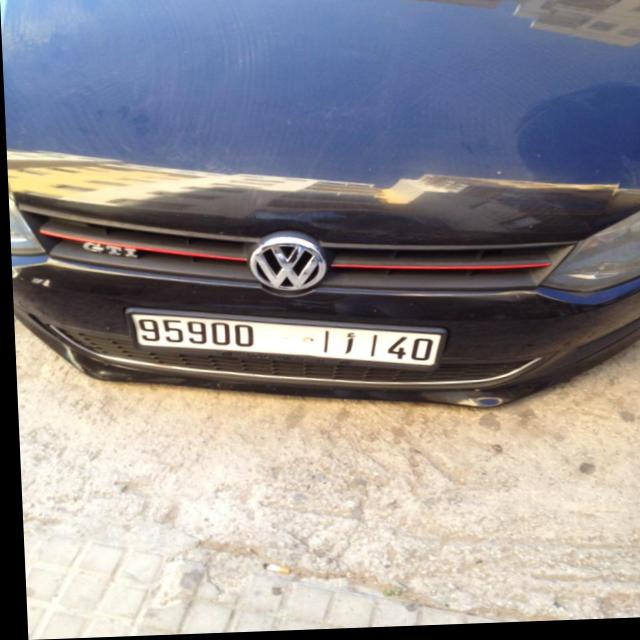License-Plate: (128, 314, 439, 371)
